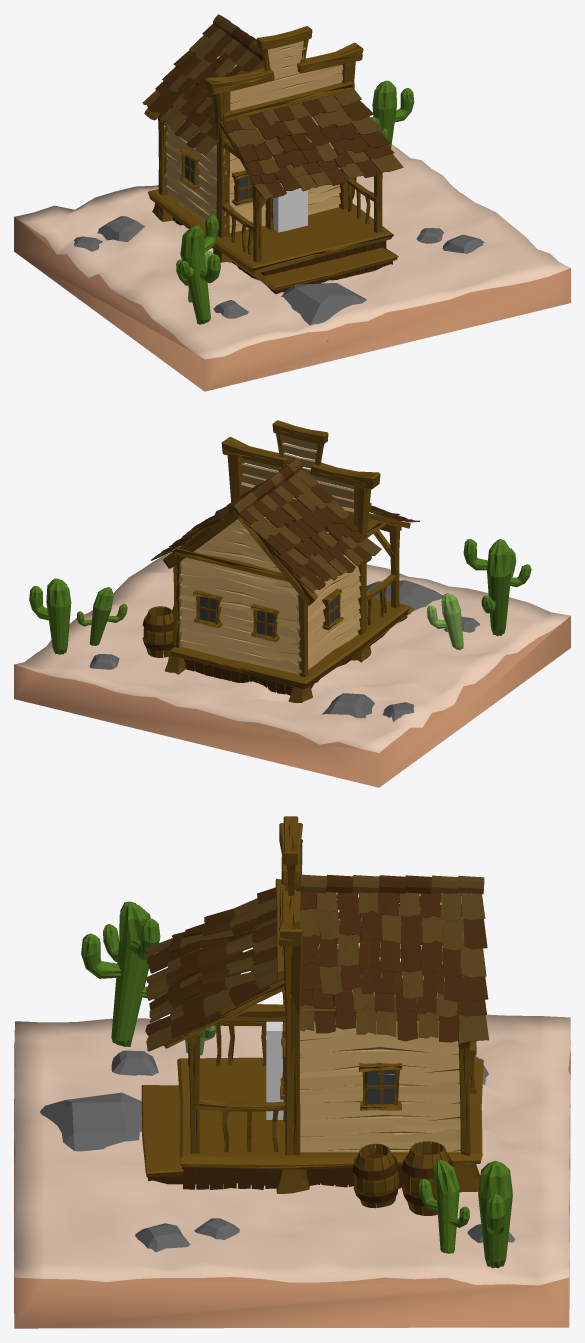
The model's file is uploads_files_3998521_Wild+west+building.fbx.
3 renders of one model, top to bottom at view 1: azimuth 30°, elevation 25°; view 2: azimuth 150°, elevation 25°; view 3: azimuth 270°, elevation 25°, orthographic. The views are drawn at different scales.
Visible parts, largest first — view 1: Plane.010, Cube, Plane.002, Plane.001, Stone, Plane.012, Catcus, Plane, Plane.007, Catcus 2, Cube.001, Cube.037 (+4 smaller); view 2: Plane.010, Cube, Plane.009, Plane.001, Plane.012, Stone, Catcus, Catcus 2, Plane, Barrel, Catcus.001, Catcus 2.001 (+7 smaller); view 3: Plane.010, Cube, Plane.004, Plane.015, Plane.002, Stone, Catcus, Roof, Catcus 2, Cube.020, Barrel.001, Catcus.001 (+3 smaller).
Part boxes in pixels (left/top/right/bottom): Plane.010: left=14, top=139, right=570, bottom=391; Cube: left=144, top=26, right=398, bottom=290; Plane.002: left=220, top=89, right=403, bottom=199; Plane.001: left=142, top=23, right=264, bottom=155; Stone: left=74, top=216, right=484, bottom=341; Plane.012: left=164, top=108, right=226, bottom=237; Catcus: left=176, top=215, right=220, bottom=324; Plane: left=230, top=64, right=343, bottom=110; Plane.007: left=229, top=167, right=340, bottom=232; Catcus 2: left=372, top=80, right=414, bottom=148; Cube.001: left=273, top=183, right=307, bottom=232; Cube.037: left=264, top=241, right=392, bottom=294; Plane.010: left=14, top=552, right=570, bottom=787; Cube: left=163, top=420, right=414, bottom=702; Plane.009: left=178, top=519, right=301, bottom=673; Plane.001: left=233, top=469, right=381, bottom=592; Plane.012: left=296, top=555, right=361, bottom=675; Stone: left=89, top=580, right=479, bottom=722; Catcus: left=463, top=539, right=531, bottom=636; Catcus 2: left=29, top=578, right=71, bottom=654; Plane: left=242, top=459, right=354, bottom=508; Barrel: left=142, top=606, right=173, bottom=657; Catcus.001: left=77, top=587, right=127, bottom=645; Catcus 2.001: left=427, top=593, right=463, bottom=650; Plane.010: left=14, top=1014, right=570, bottom=1328; Cube: left=141, top=816, right=483, bottom=1193; Plane.004: left=299, top=877, right=488, bottom=1042; Plane.015: left=300, top=1021, right=460, bottom=1152; Plane.002: left=145, top=887, right=290, bottom=1051; Stone: left=40, top=1050, right=515, bottom=1252; Catcus: left=81, top=901, right=168, bottom=1046; Roof: left=300, top=874, right=484, bottom=894; Catcus 2: left=478, top=1160, right=512, bottom=1268; Cube.020: left=183, top=1165, right=452, bottom=1189; Barrel.001: left=352, top=1143, right=399, bottom=1208; Catcus.001: left=419, top=1159, right=469, bottom=1253.
Size of the model in its own units: 4242 by 2709 by 3764.
